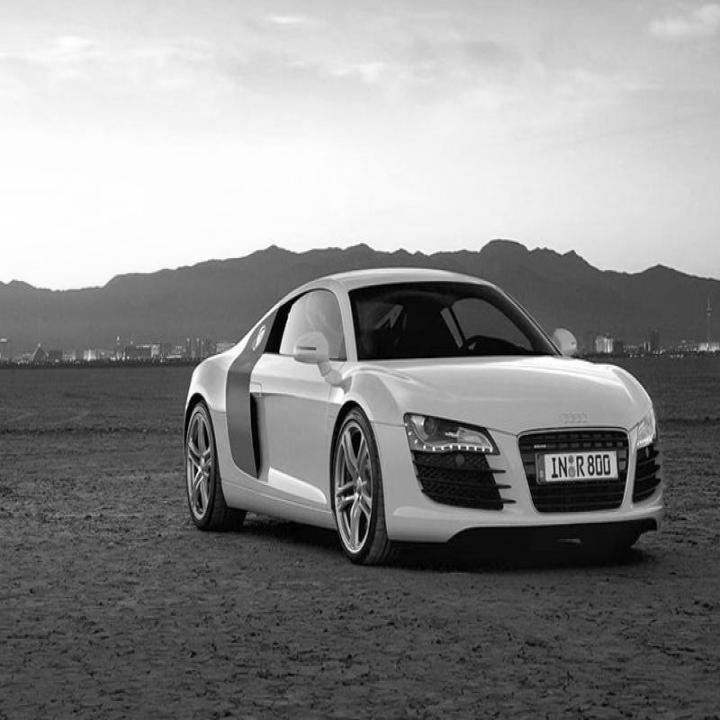car: (182, 265, 664, 566)
plat: (536, 451, 618, 485)
